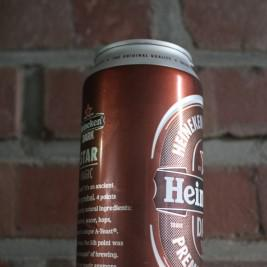beer: (77, 40, 209, 267)
